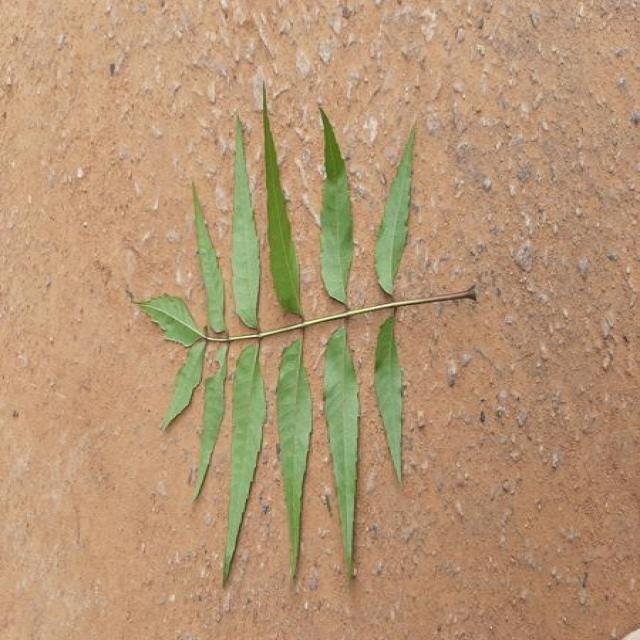neem: (137, 92, 477, 582), (323, 324, 360, 582), (275, 336, 313, 577), (375, 131, 414, 296), (321, 109, 353, 307), (375, 315, 403, 482)
